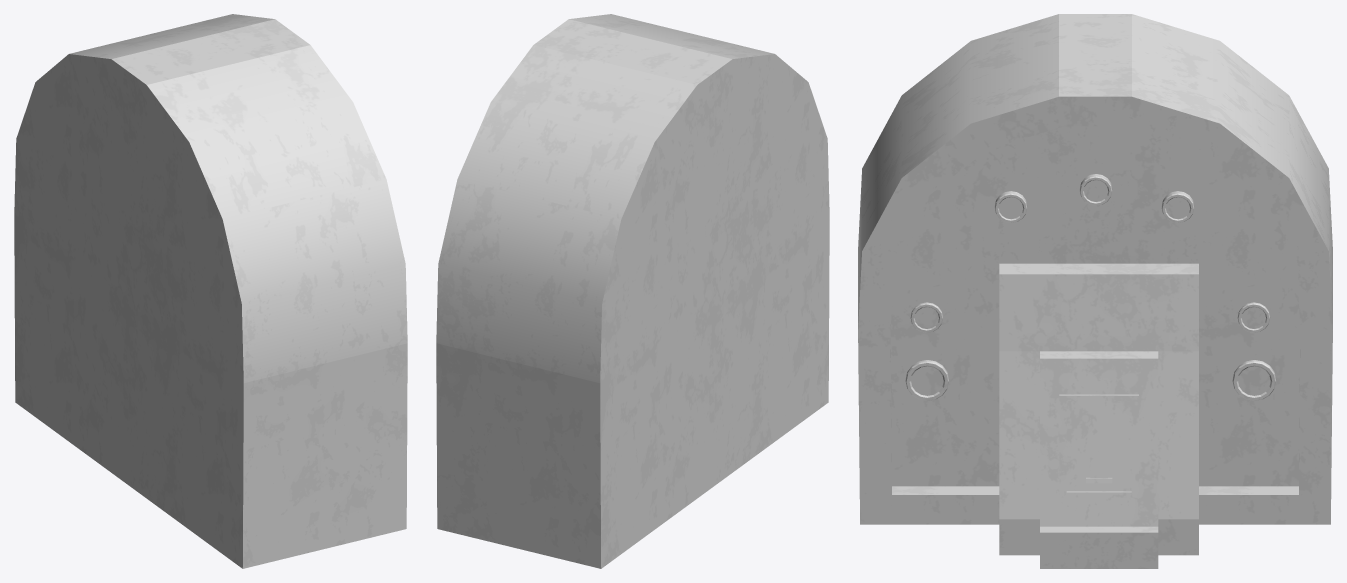
Rendered from Steam Train Machine Room_B_001.fbx.
3 renders of one model, left to right at view 1: azimuth 30°, elevation 25°; view 2: azimuth 150°, elevation 25°; view 3: azimuth 270°, elevation 25°, orthographic. The views are drawn at different scales.
Visible parts, largest first — view 1: Steam_Train_Machine_Room_B_001; view 2: Steam_Train_Machine_Room_B_001; view 3: Steam_Train_Machine_Room_B_001.
Boxes of the visible parts, x1,y1,x2,y2 form: Steam_Train_Machine_Room_B_001: [14, 14, 407, 568]; Steam_Train_Machine_Room_B_001: [436, 14, 829, 568]; Steam_Train_Machine_Room_B_001: [858, 14, 1332, 568].
Bounding box in the file's own units: 87.34 × 154 × 151.
3 materials, 3 textured.
